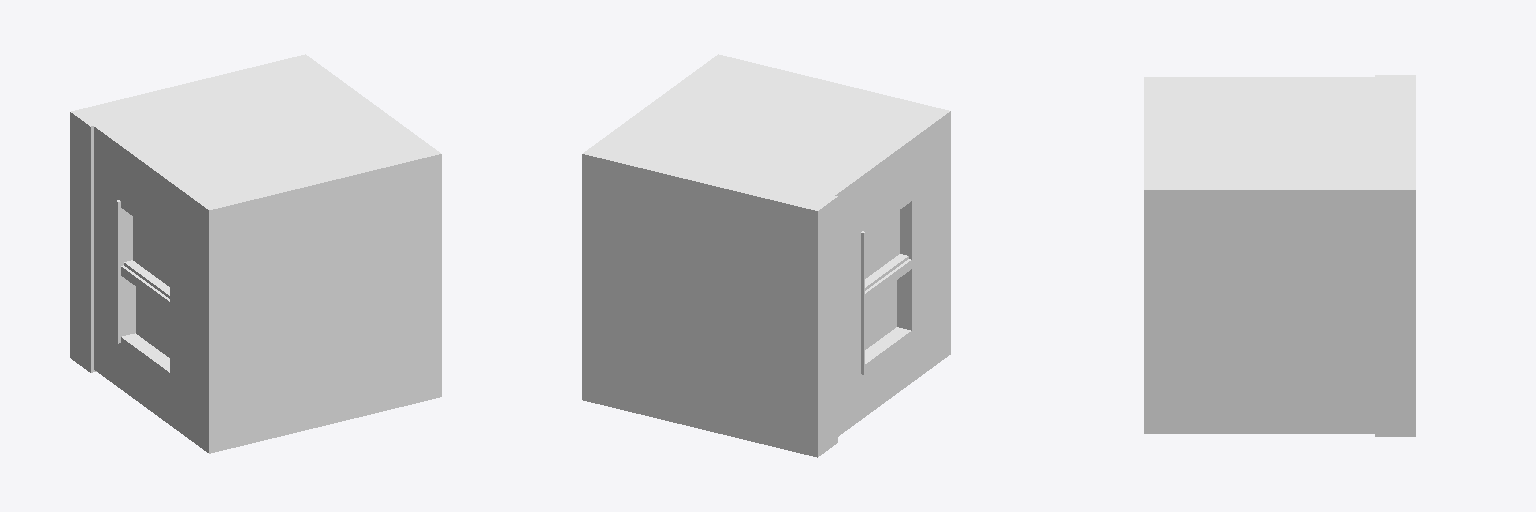
Rendered from Building2Var2-Base-0.obj.
The picture shows the model from 3 angles: view 1: azimuth 30°, elevation 25°; view 2: azimuth 150°, elevation 25°; view 3: azimuth 270°, elevation 25°; orthographic projection.
Parts seen in each view (by area): view 1: object 1; view 2: object 1; view 3: object 1.
Part boxes in pixels (x1,y1,x2,y2): object 1: (70,54,441,453); object 1: (582,54,950,457); object 1: (1144,75,1415,436).
Bounding box in the file's own units: 80 × 80 × 80.